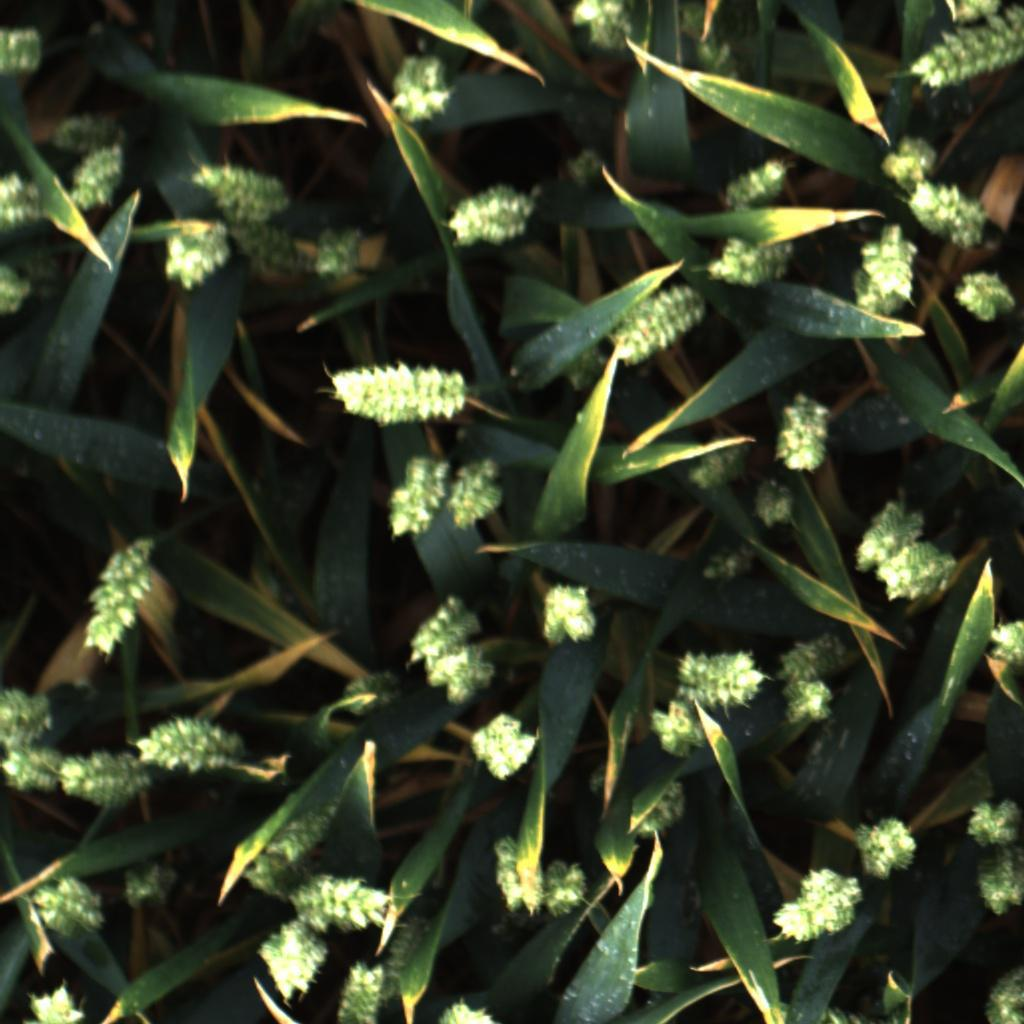0-0: (322, 350, 468, 431), (78, 524, 162, 662), (896, 12, 1024, 101), (768, 858, 870, 949), (135, 706, 257, 776), (614, 280, 707, 370), (225, 212, 319, 299), (908, 179, 1010, 257), (843, 224, 927, 317), (183, 147, 297, 213), (239, 809, 327, 894), (291, 867, 398, 935), (371, 895, 445, 992), (440, 175, 527, 257), (670, 642, 769, 713), (378, 453, 457, 541), (51, 741, 151, 809), (253, 919, 332, 1005), (701, 228, 801, 295), (384, 45, 459, 132), (397, 586, 480, 664), (465, 708, 547, 785), (162, 220, 238, 298), (769, 393, 840, 476), (32, 867, 112, 940), (532, 574, 606, 652), (444, 458, 511, 541), (875, 541, 959, 607), (846, 500, 925, 570), (486, 830, 544, 918), (426, 634, 495, 706), (629, 771, 695, 844), (852, 807, 919, 878), (637, 695, 711, 759), (721, 154, 797, 216), (878, 129, 945, 199), (319, 217, 381, 292), (681, 532, 772, 583), (680, 439, 749, 504), (772, 671, 846, 731), (44, 102, 131, 153), (772, 624, 851, 680), (71, 137, 128, 214), (949, 266, 1022, 326), (563, 0, 647, 52), (3, 164, 56, 245), (3, 740, 66, 805), (537, 855, 598, 922), (118, 856, 186, 915), (333, 958, 392, 1024), (962, 790, 1024, 851), (978, 841, 1024, 922), (2, 682, 60, 746), (337, 666, 403, 722), (749, 473, 804, 532), (22, 978, 92, 1024), (974, 610, 1024, 674), (0, 259, 47, 327)
